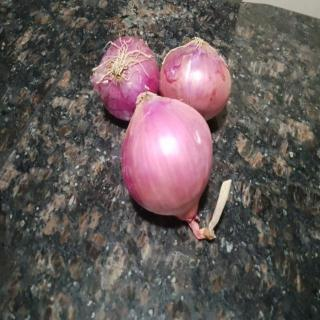Bawang Merah: (118, 90, 236, 245), (157, 35, 234, 121)
